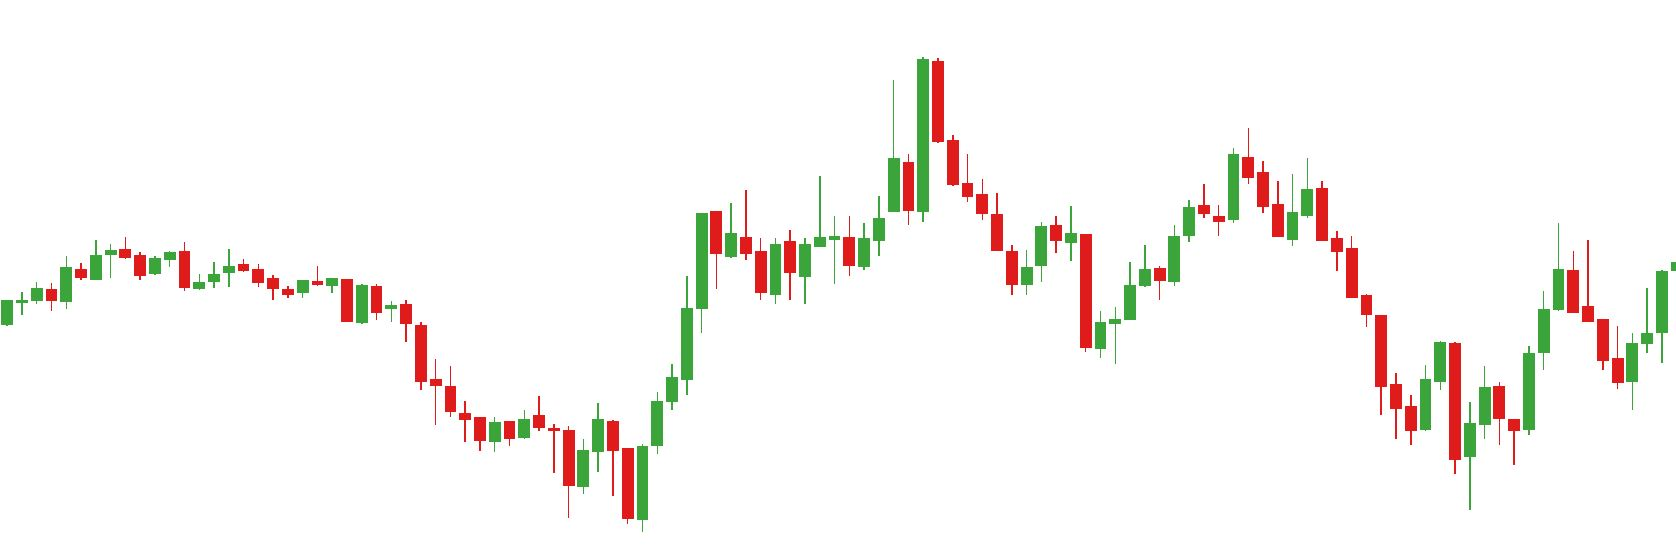buy: (558, 428, 650, 538)
